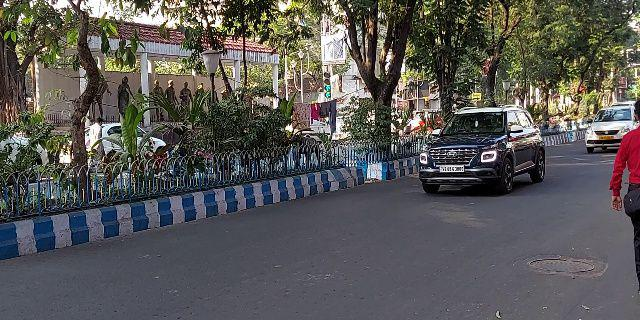Car: (415, 104, 547, 195), (582, 104, 637, 154)
